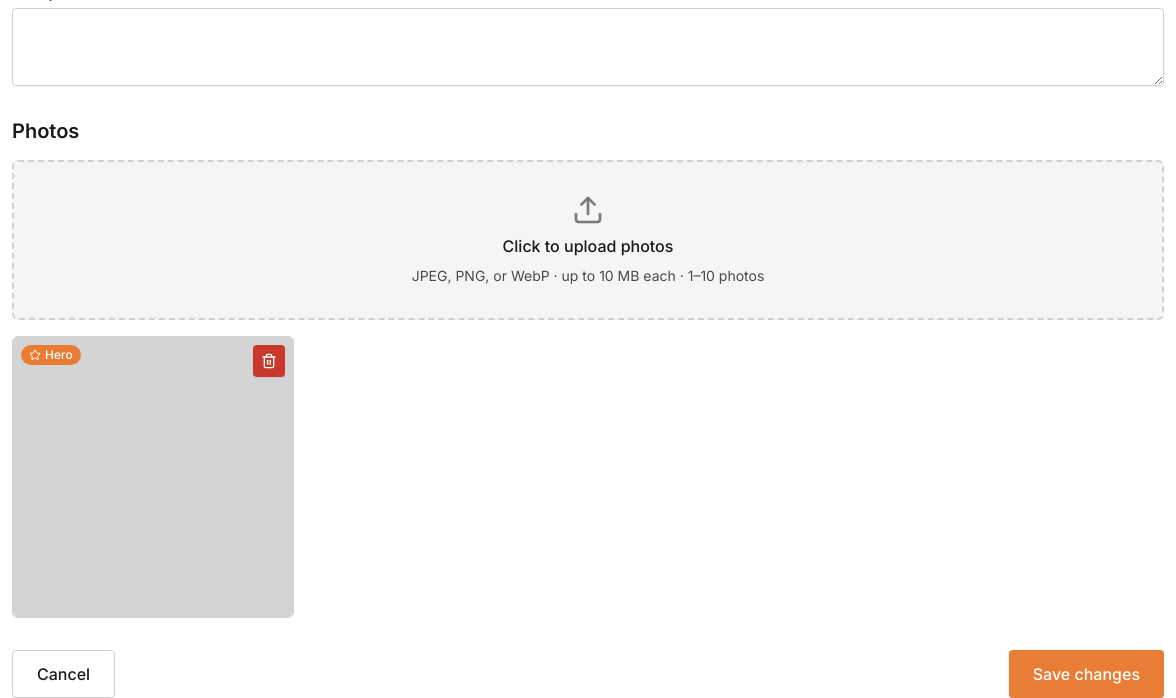
Test: EditListingForm › renders the error summary when updateListing returns a failure
(page scrolled)
Click the button "Save changes" at (1086, 674), box [1009, 650, 1164, 697]
(page scrolled)
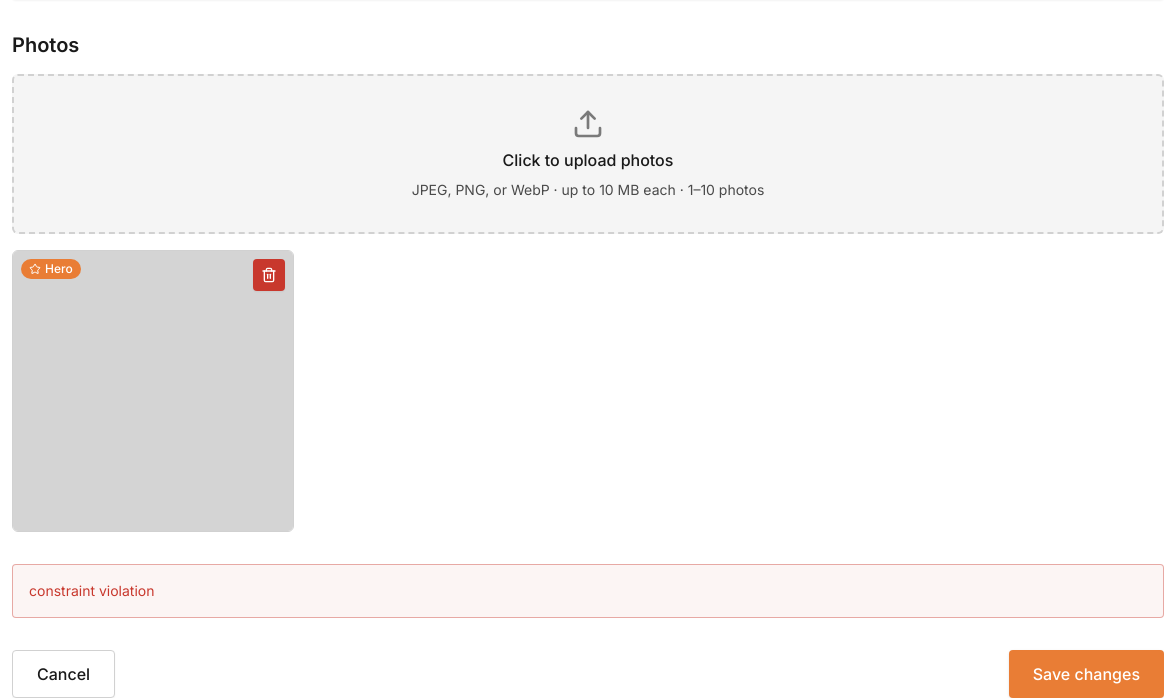
Expected: the message reads "constraint violation", [29, 582, 154, 599]
